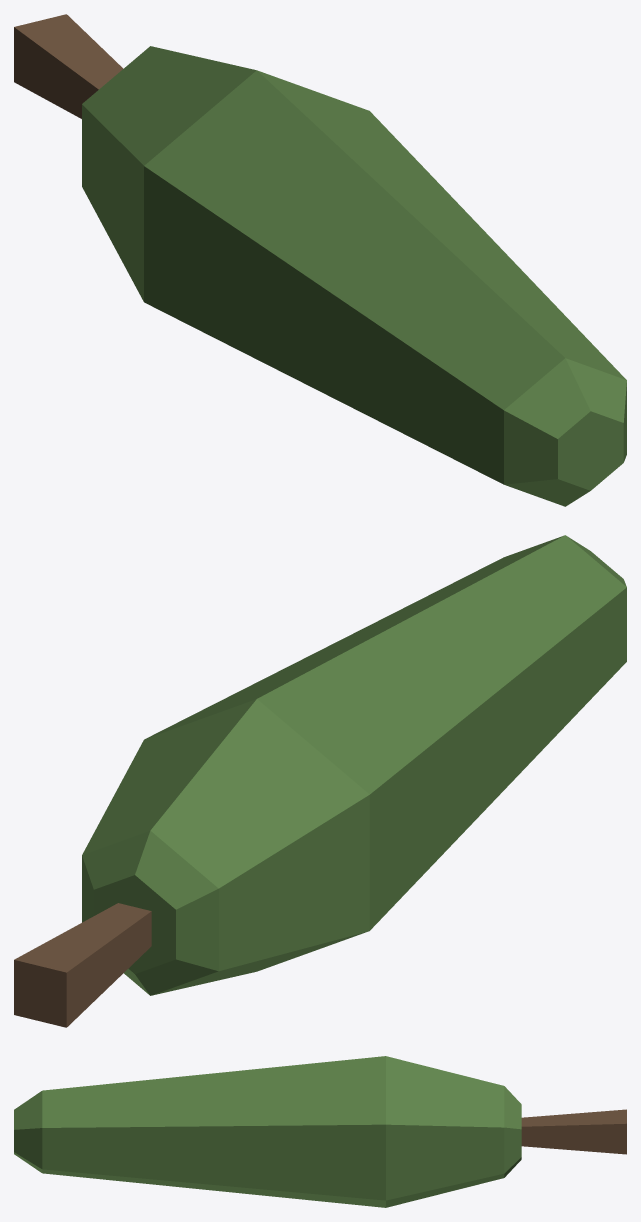
File: tree-model-tall-34-ft.obj
The picture shows the model from 3 angles, top to bottom: view 1: azimuth 30°, elevation 25°; view 2: azimuth 150°, elevation 25°; view 3: azimuth 270°, elevation 25°; orthographic projection. The views are drawn at different scales.
Parts seen in each view (by area): view 1: tree-model-tall-34-ft; view 2: tree-model-tall-34-ft; view 3: tree-model-tall-34-ft.
Part boxes in pixels (x1,y1,x2,y2): tree-model-tall-34-ft: (14,14,626,506); tree-model-tall-34-ft: (14,535,626,1027); tree-model-tall-34-ft: (14,1056,626,1207).
Bounding box in the file's own units: 96.6 × 112 × 408.
